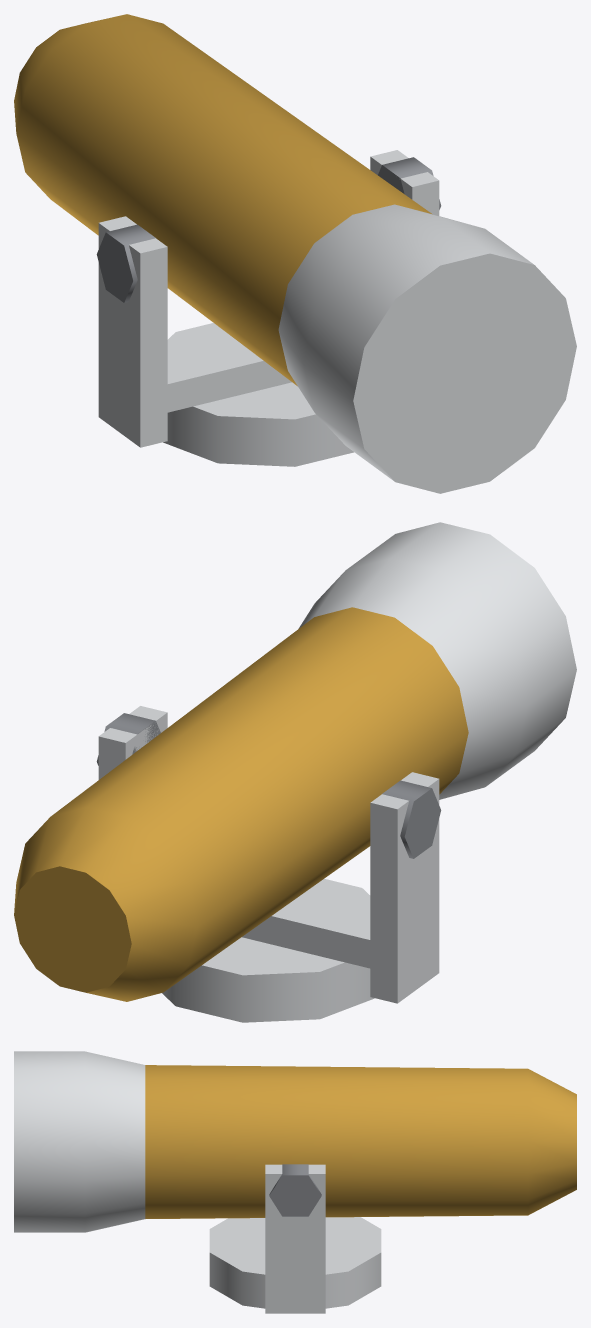
File: sm1_optics.obj
3 renders of one model, top to bottom at view 1: azimuth 30°, elevation 25°; view 2: azimuth 150°, elevation 25°; view 3: azimuth 270°, elevation 25°, orthographic. The views are drawn at different scales.
Visible parts, largest first — view 1: sm1_optics; view 2: sm1_optics; view 3: sm1_optics.
Part boxes in pixels (x1,y1,x2,y2): sm1_optics: (14,14,576,493); sm1_optics: (14,522,576,1022); sm1_optics: (14,1051,576,1313).
Bounding box in the file's own units: 0.68 × 0.6308 × 1.5.
